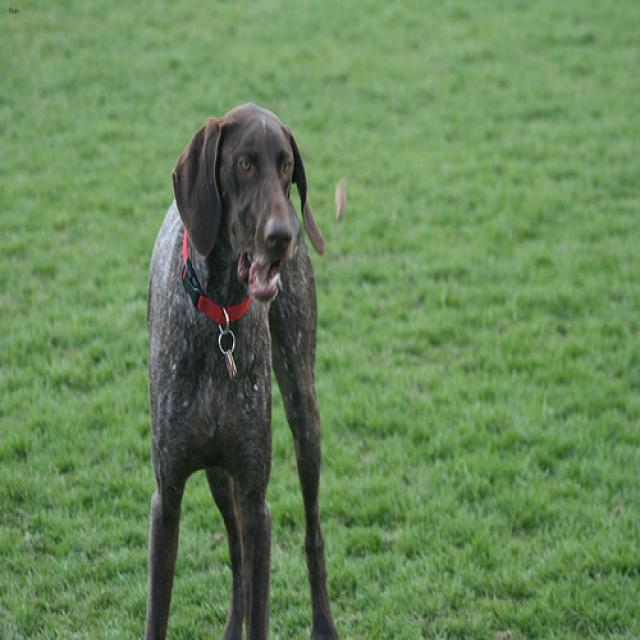dog-german_shorthaired: (129, 90, 353, 636)
